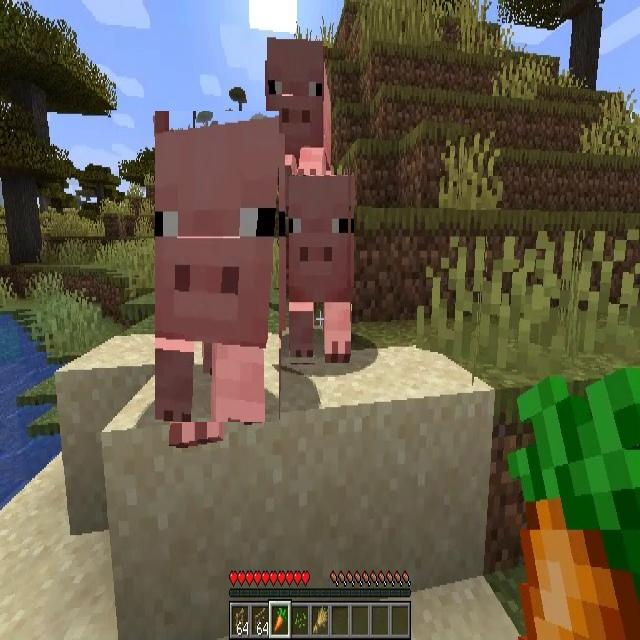pig: (156, 111, 280, 422), (289, 175, 351, 363), (268, 34, 328, 180)
